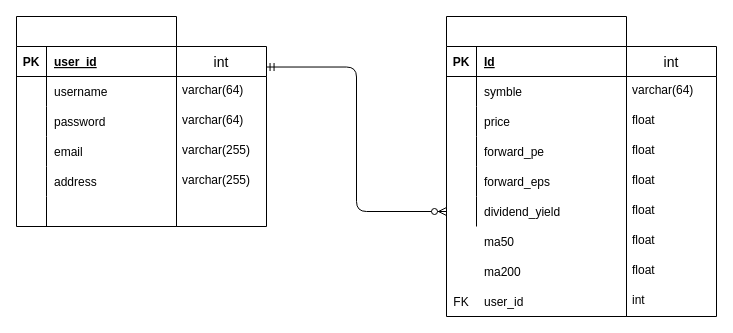
Image size: 733x333. Some labels were removed from this diagram. The shapes that lost their labels are listed below. From the top down, each one's box as (x1, y1, x2, y2) in pixels, then its label:
(16, 16, 176, 226): user_account
(446, 16, 626, 316): Stock
